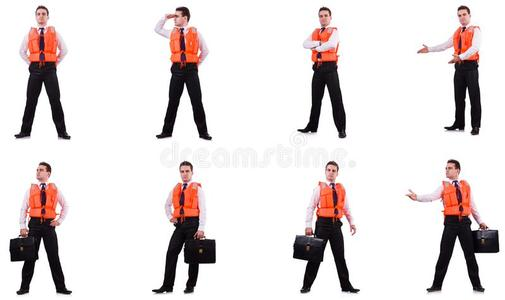reflective_clothes: (24, 23, 62, 70), (312, 175, 348, 223), (27, 176, 62, 223), (441, 174, 474, 223), (166, 24, 202, 68), (171, 177, 205, 223), (310, 23, 342, 65), (452, 22, 482, 64)
